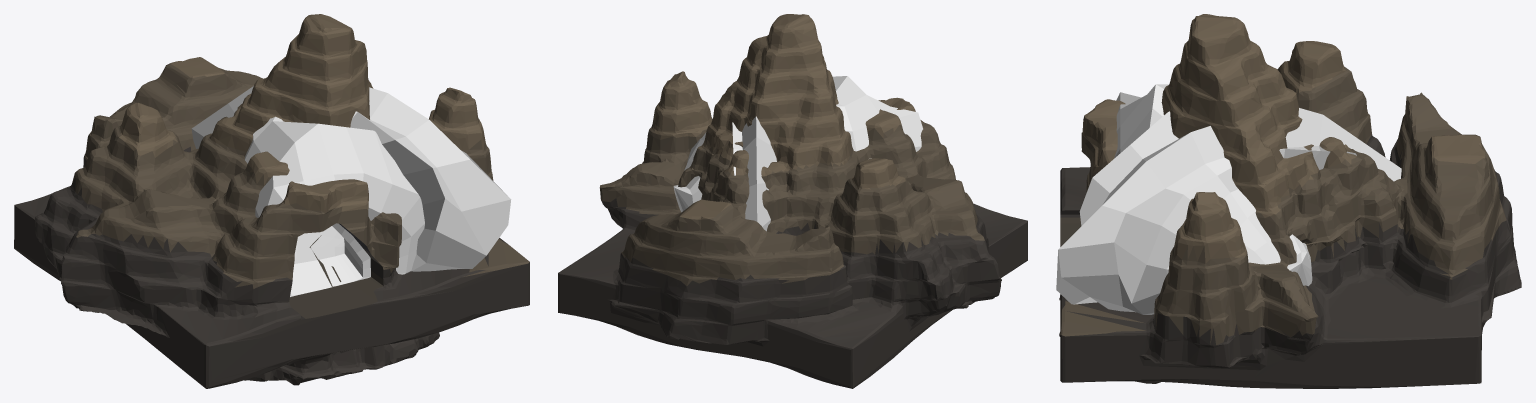
File: SM_WaterfallCave_5bd1b4f5.glb
3 renders of one model, left to right at view 1: azimuth 30°, elevation 25°; view 2: azimuth 150°, elevation 25°; view 3: azimuth 270°, elevation 25°, orthographic. The views are drawn at different scales.
Parts seen in each view (by area): view 1: SM_WaterfallCave, COL_WaterfallCave; view 2: SM_WaterfallCave, COL_WaterfallCave; view 3: SM_WaterfallCave, COL_WaterfallCave.
Boxes of the visible parts, <box> form: SM_WaterfallCave: <box>14,14,529,388</box>; COL_WaterfallCave: <box>191,78,511,296</box>; SM_WaterfallCave: <box>558,14,1027,388</box>; COL_WaterfallCave: <box>673,76,922,231</box>; SM_WaterfallCave: <box>1059,14,1521,388</box>; COL_WaterfallCave: <box>1056,84,1401,314</box>.
Bounding box in the file's own units: 16.95 × 11.74 × 15.13.
